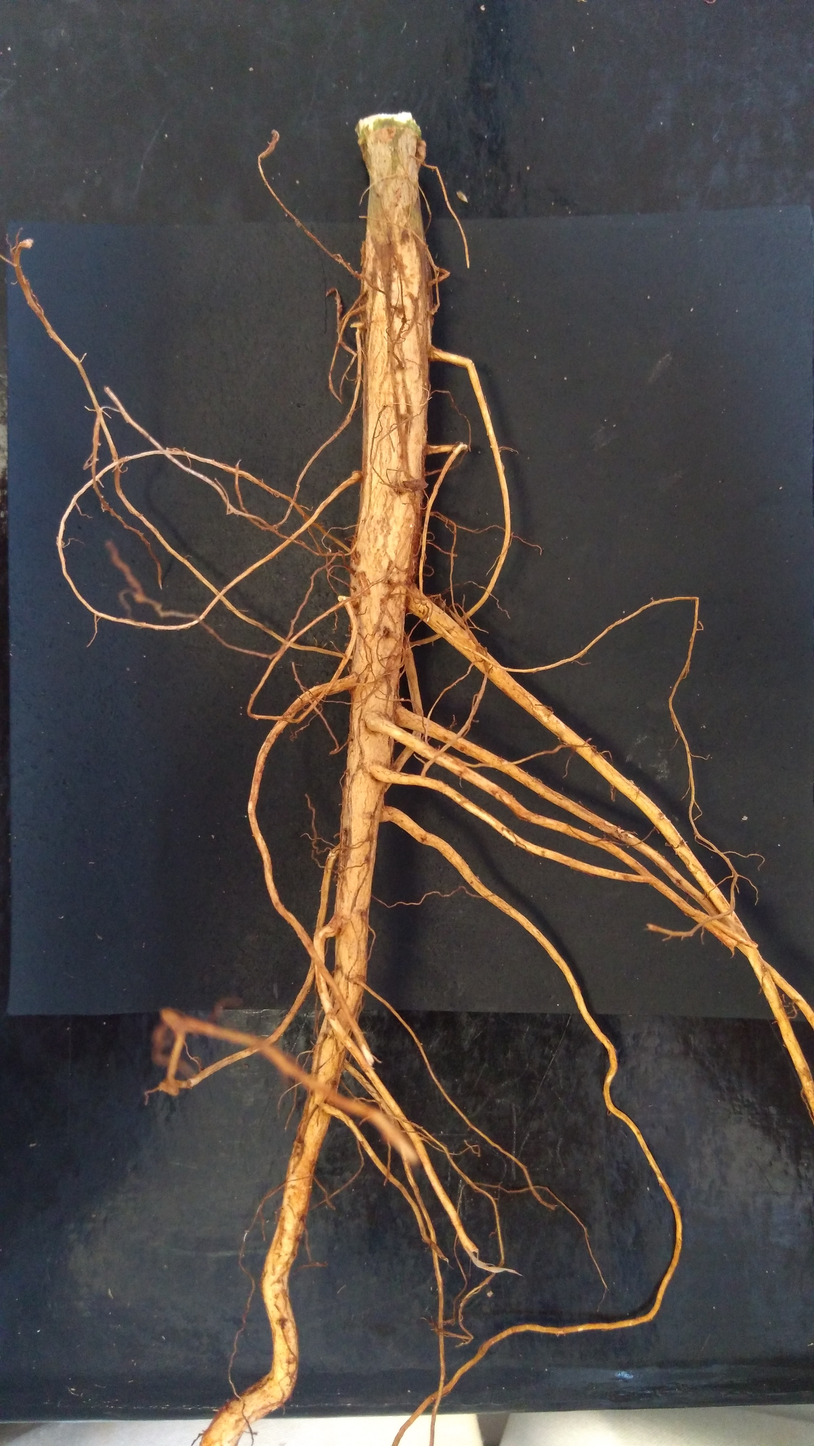nodule: (415, 138, 426, 170), (351, 470, 361, 480), (337, 594, 346, 603), (487, 1290, 494, 1298)
